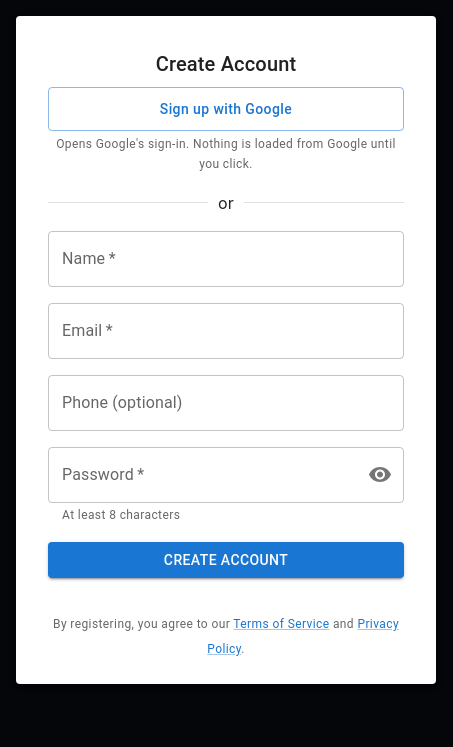
Test case: field errors clear as the user fixes the field
This screenshot has width=453, height=747.
Click the button "Create Account" at (226,560), box [48, 542, 404, 578]
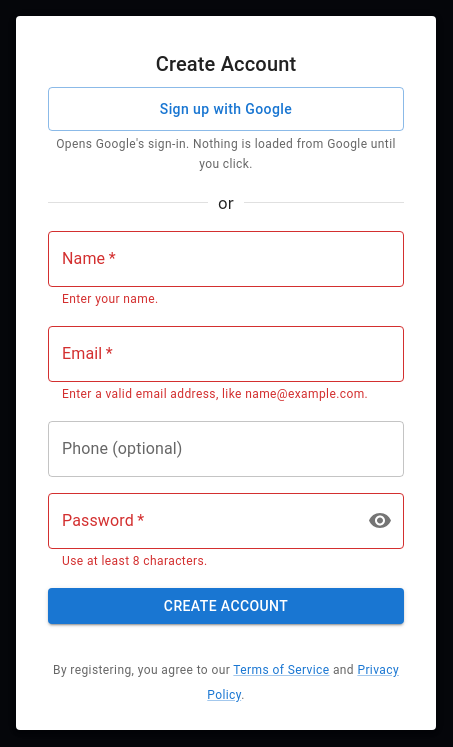
expect the text "Enter your name." is shown: met, box [62, 292, 158, 306]
Type "Sam" into the field labelled "Name *" at (226,259), box [48, 231, 404, 287]
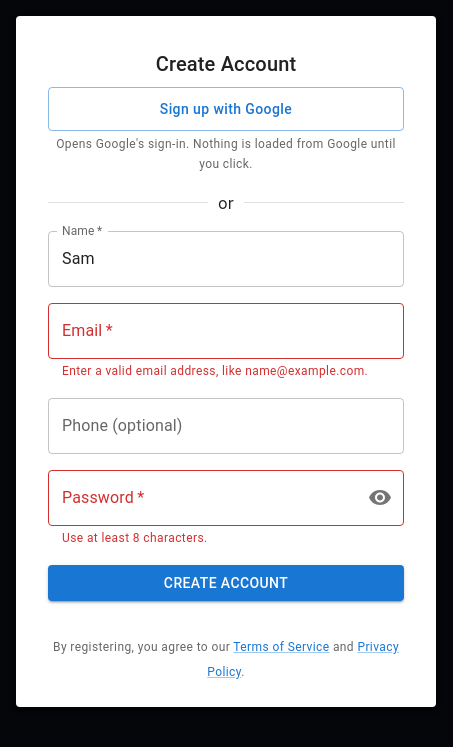
expect the text "Enter your name." is gone: met
